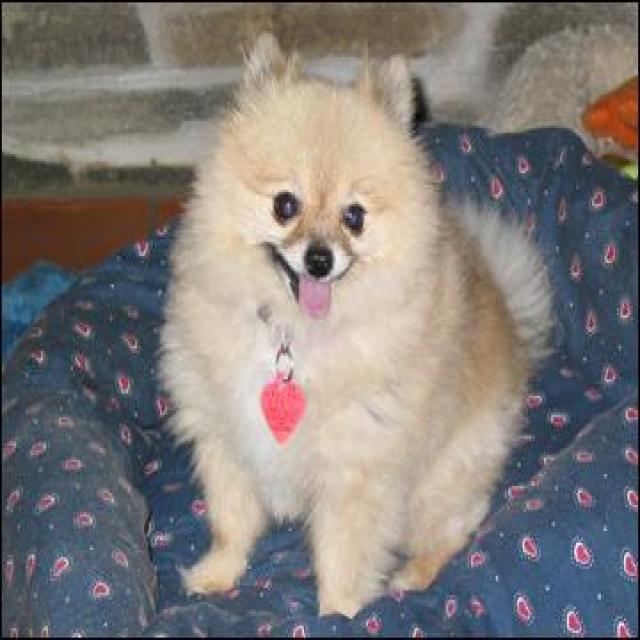sitting: (154, 32, 558, 617)
